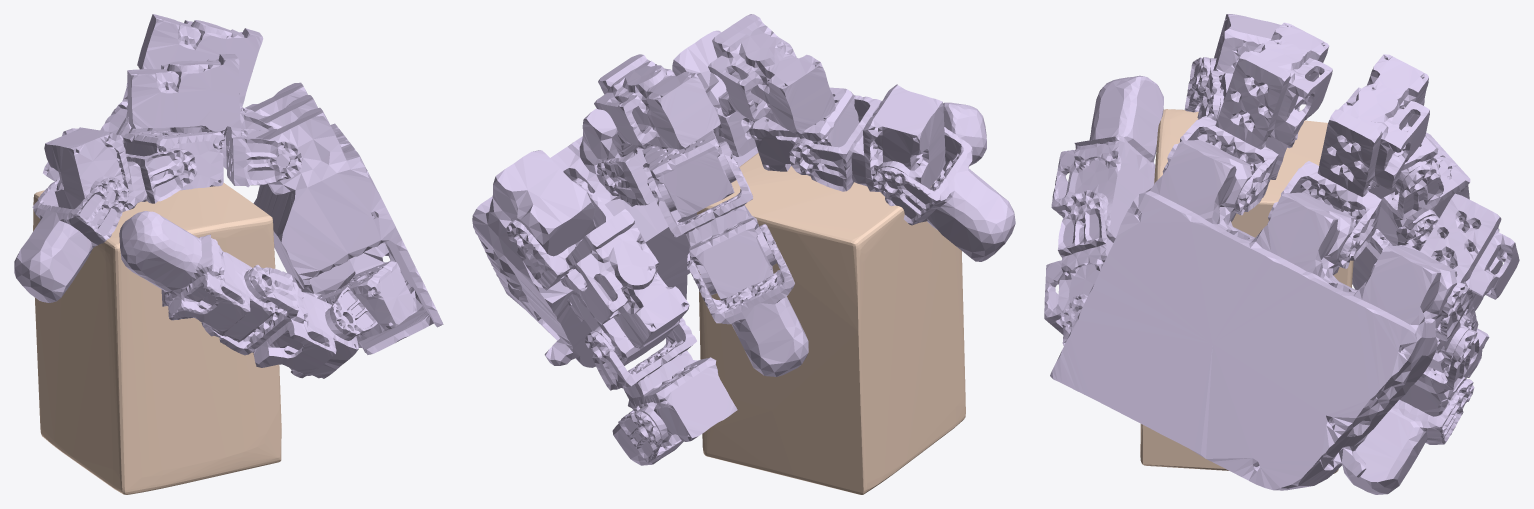
File: ac2a1eeb73d423-final.glb
The picture shows the model from 3 angles, left to right: view 1: azimuth 30°, elevation 25°; view 2: azimuth 150°, elevation 25°; view 3: azimuth 270°, elevation 25°; orthographic projection. The views are drawn at different scales.
Visible parts, largest first — view 1: LEAP_hand, world; view 2: LEAP_hand, world; view 3: LEAP_hand, world.
Part boxes in pixels (left/top/right/bottom): LEAP_hand: left=14, top=14, right=443, bottom=378; world: left=33, top=183, right=281, bottom=494; LEAP_hand: left=472, top=14, right=1015, bottom=465; world: left=697, top=152, right=965, bottom=494; LEAP_hand: left=1044, top=14, right=1519, bottom=494; world: left=1140, top=109, right=1353, bottom=473.
Bounding box in the file's own units: 0.208 × 0.1753 × 0.1808.
